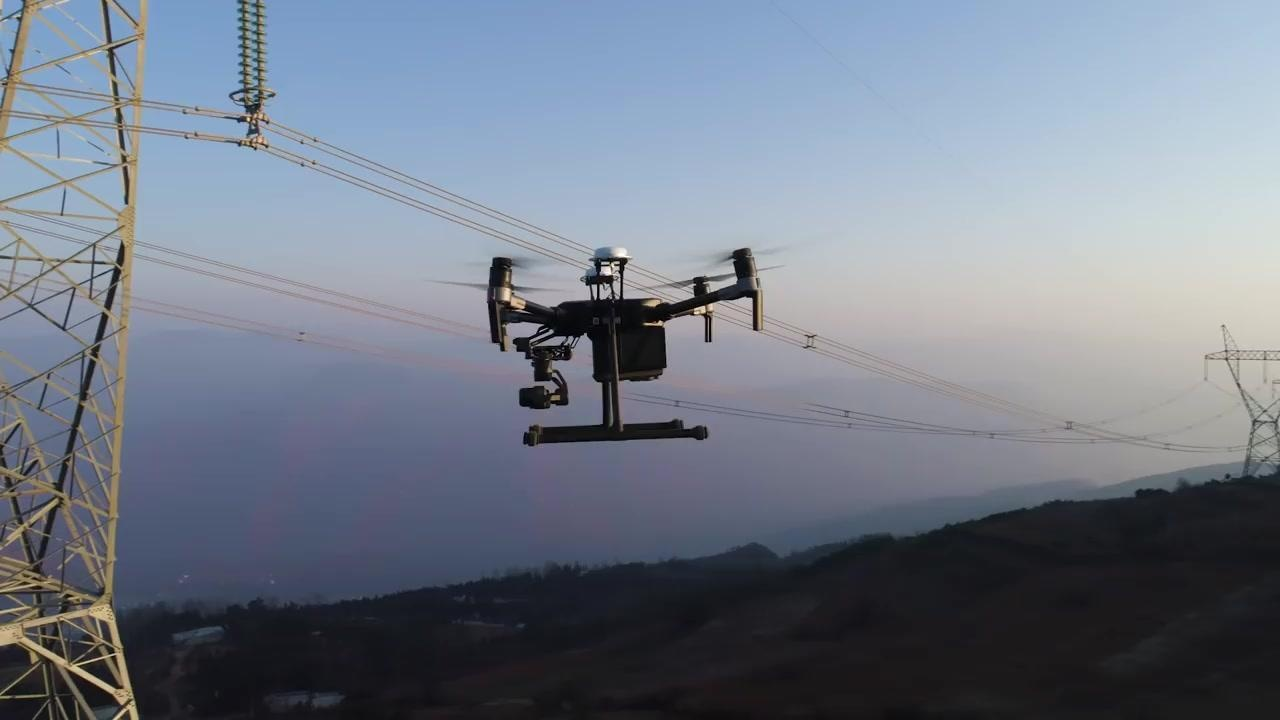UAV: (443, 245, 786, 449)
